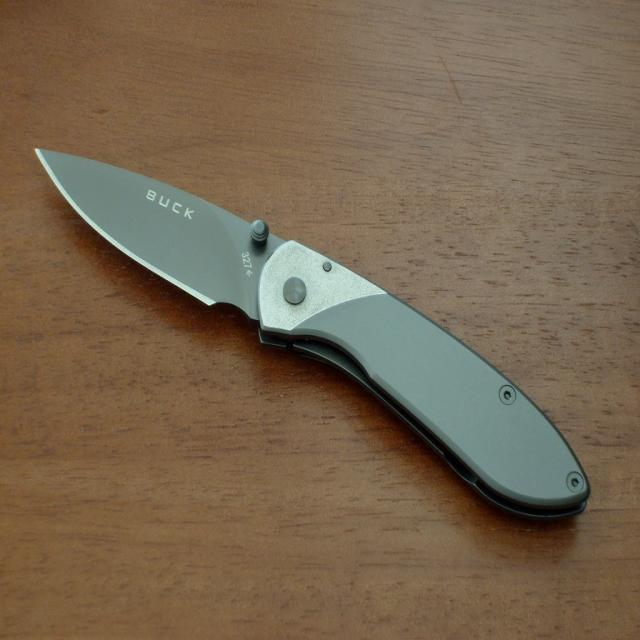Knife: (36, 149, 589, 517)
